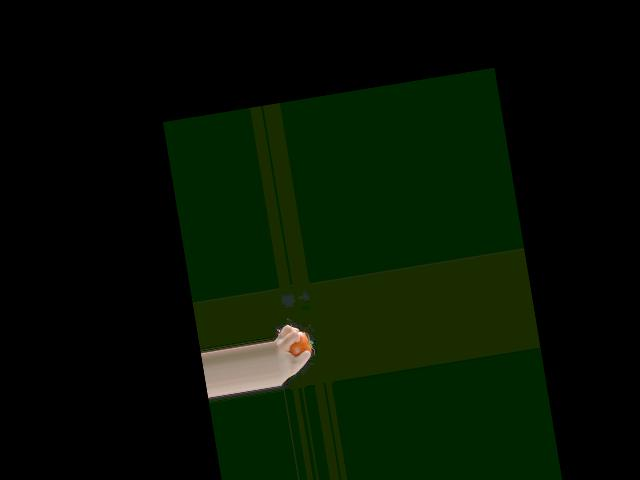tomato: (287, 330, 311, 357)
